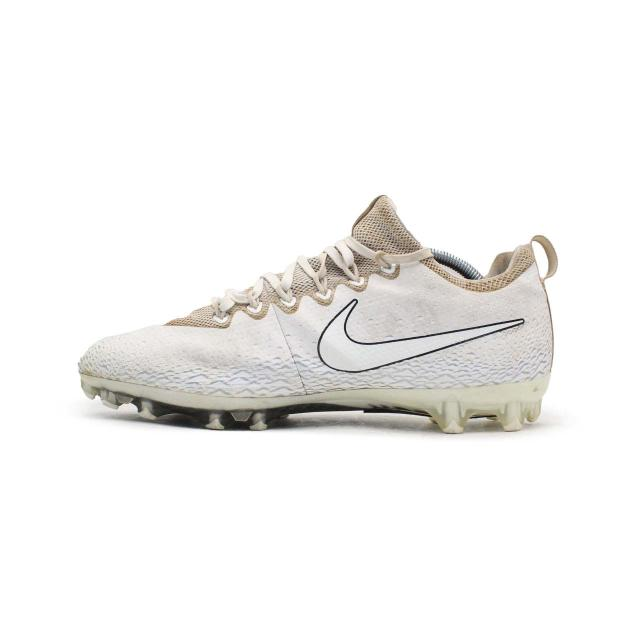heel: (500, 237, 555, 379)
midsole: (83, 364, 553, 431)
uppersole: (80, 192, 507, 394)
